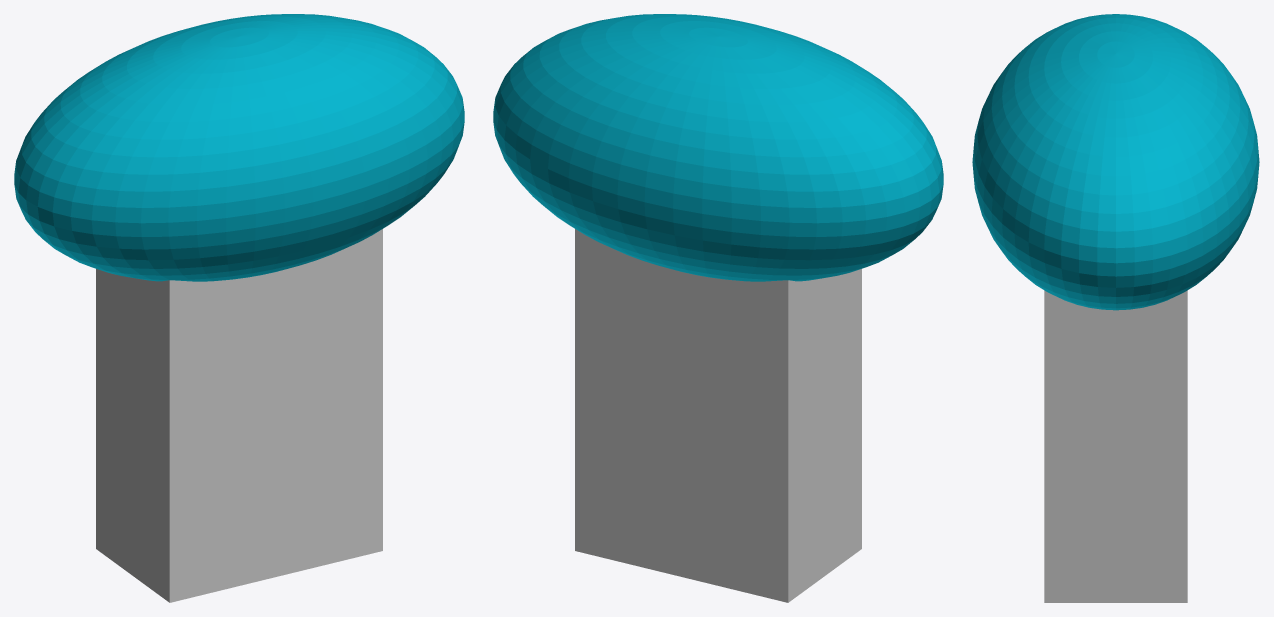
The picture shows the model from 3 angles, left to right: view 1: azimuth 30°, elevation 25°; view 2: azimuth 150°, elevation 25°; view 3: azimuth 270°, elevation 25°; orthographic projection. The views are drawn at different scales.
Parts seen in each view (by area): view 1: Mesh_Mesh_head_geo.001_lambert2SG.001; view 2: Mesh_Mesh_head_geo.001_lambert2SG.001; view 3: Mesh_Mesh_head_geo.001_lambert2SG.001.
Boxes of the visible parts, x1=… form: Mesh_Mesh_head_geo.001_lambert2SG.001: x1=14, y1=14, x2=464, y2=602; Mesh_Mesh_head_geo.001_lambert2SG.001: x1=493, y1=14, x2=943, y2=602; Mesh_Mesh_head_geo.001_lambert2SG.001: x1=972, y1=14, x2=1259, y2=602.
Size of the model in its own units: 40 by 46 by 24.
